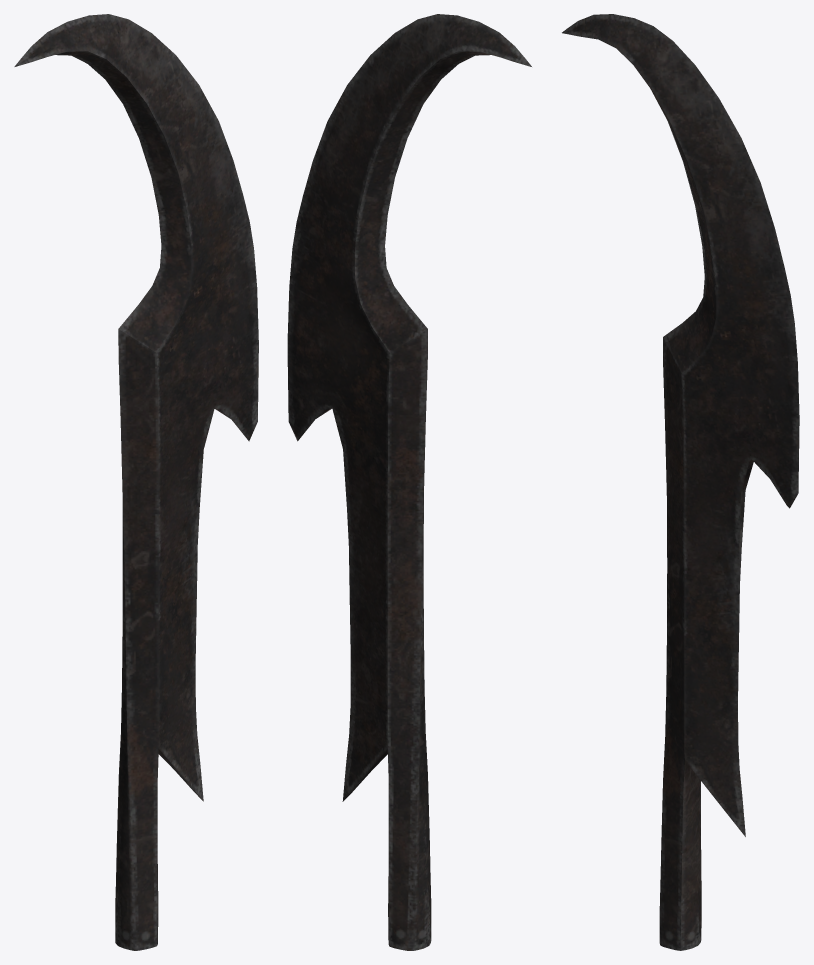
The model's file is wm_dol_goldur_halberd_a01_blade.fbx.
The picture shows the model from 3 angles, left to right: view 1: azimuth 30°, elevation 25°; view 2: azimuth 150°, elevation 25°; view 3: azimuth 330°, elevation 25°; orthographic projection. The views are drawn at different scales.
Parts seen in each view (by area): view 1: wm_dol_goldur_halberd_a01_blade; view 2: wm_dol_goldur_halberd_a01_blade; view 3: wm_dol_goldur_halberd_a01_blade.
Boxes of the visible parts, left/top/right/bottom form: wm_dol_goldur_halberd_a01_blade: left=14, top=14, right=258, bottom=950; wm_dol_goldur_halberd_a01_blade: left=287, top=14, right=531, bottom=950; wm_dol_goldur_halberd_a01_blade: left=562, top=14, right=799, bottom=950.
Size of the model in its own units: 0.2127 by 0.0321 by 0.7781.
1 material, 1 textured.
